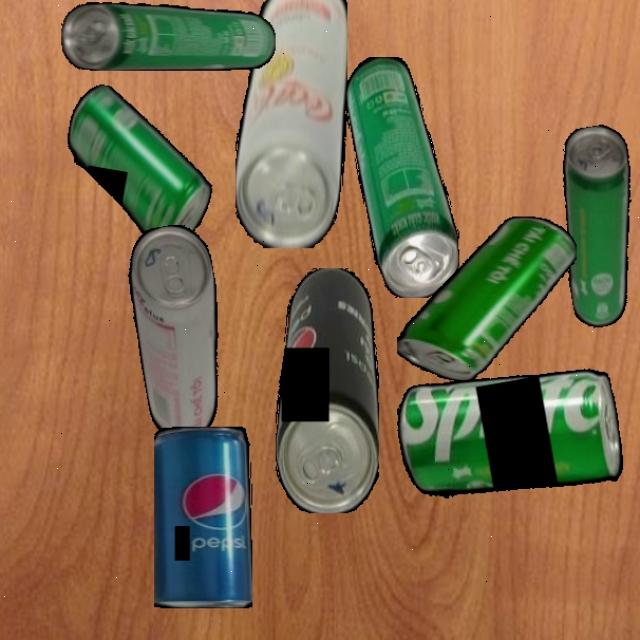debris: (390, 352, 634, 552), (52, 81, 226, 256), (396, 216, 577, 382), (235, 0, 348, 248), (346, 56, 460, 298), (119, 220, 241, 444), (275, 267, 379, 513), (544, 122, 640, 330), (153, 427, 253, 608), (61, 1, 276, 71)
